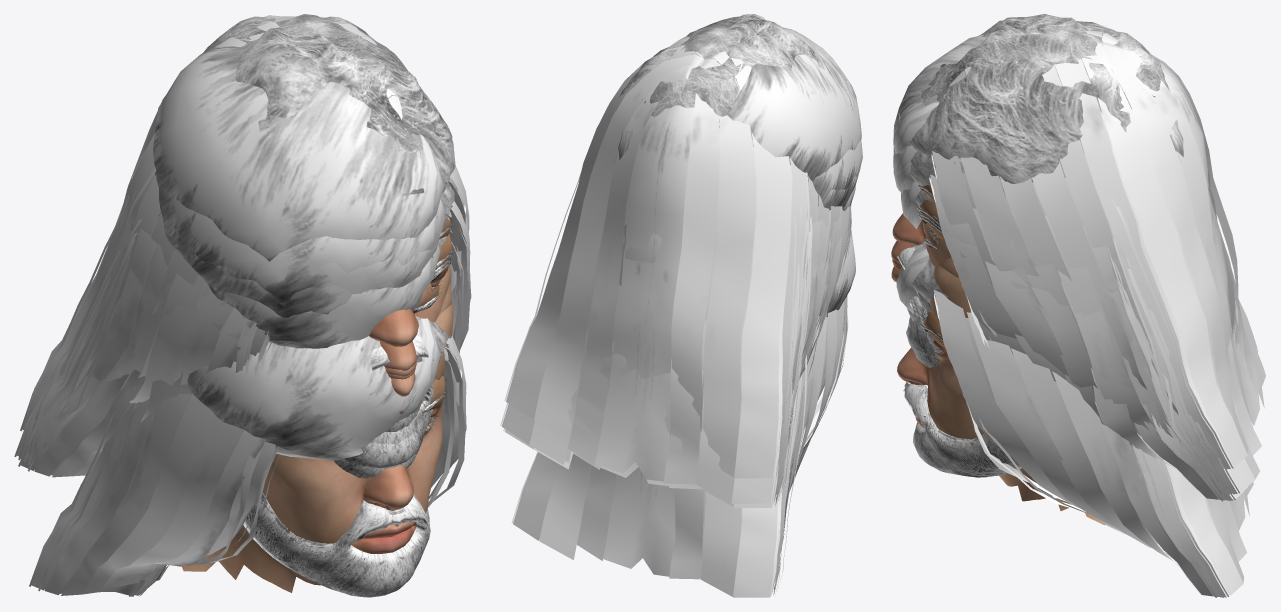
Rendered from mh_head_m.glb.
3 views of the same model, side by side, from view 1: azimuth 30°, elevation 25°; view 2: azimuth 150°, elevation 25°; view 3: azimuth 270°, elevation 25° (orthographic). The views are drawn at different scales.
Parts seen in each view (by area): view 1: hair_short03#6, hair_long01#2, hair_short03#2, hair_short02#6, hair_long01#4, hair_short03#0, face#2, hair_long01#6, beard_full#2, hair_long01#3, hair_short03#3, hair_long01#0 (+14 smaller); view 2: hair_long01#6, hair_long01#2, hair_long01#4, hair_short03#6, hair_short02#6, hair_long01#0, hair_long01#3, hair_short03#0, hair_short03#2, hair_long01#1, hair_long01#5, hair_short03#4; view 3: hair_long01#6, hair_long01#2, hair_short02#6, hair_long01#4, hair_long01#0, hair_long01#3, beard_full#2, face#2, hair_short03#6, face_cov#2, hair_long01#5, hair_short03#2 (+6 smaller).
Part boxes in pixels (<box>): hair_short03#6: <box>153,46,443,261</box>; hair_long01#2: <box>29,335,466,596</box>; hair_short03#2: <box>187,318,440,460</box>; hair_short02#6: <box>203,14,455,196</box>; hair_long01#4: <box>14,207,471,461</box>; hair_short03#0: <box>159,187,444,307</box>; face#2: <box>181,380,445,592</box>; hair_long01#6: <box>20,15,469,431</box>; beard_full#2: <box>243,493,430,597</box>; hair_long01#3: <box>18,242,463,477</box>; hair_short03#3: <box>208,244,439,348</box>; hair_long01#0: <box>19,201,470,461</box>; hair_long01#6: <box>504,36,846,478</box>; hair_long01#2: <box>511,296,848,597</box>; hair_long01#4: <box>500,204,851,503</box>; hair_short03#6: <box>615,27,861,181</box>; hair_short02#6: <box>616,14,824,117</box>; hair_long01#0: <box>565,206,851,499</box>; hair_long01#3: <box>503,233,827,507</box>; hair_short03#0: <box>812,140,862,200</box>; hair_short03#2: <box>819,229,855,316</box>; hair_long01#1: <box>565,224,829,500</box>; hair_long01#5: <box>565,217,848,501</box>; hair_short03#4: <box>816,164,861,210</box>; hair_long01#6: <box>931,26,1258,469</box>; hair_long01#2: <box>933,290,1253,597</box>; hair_short02#6: <box>898,14,1169,183</box>; hair_long01#4: <box>935,183,1265,494</box>; hair_long01#0: <box>929,174,1239,492</box>; hair_long01#3: <box>951,181,1247,501</box>; beard_full#2: <box>902,382,1021,477</box>; face#2: <box>897,311,1105,525</box>; hair_short03#6: <box>893,21,1183,156</box>; face_cov#2: <box>897,312,1032,500</box>; hair_long01#5: <box>979,185,1235,494</box>; hair_short03#2: <box>896,244,929,314</box>.
Bounding box in the file's own units: 0.2605 × 0.4253 × 0.2819.
9 materials, 9 textured.
